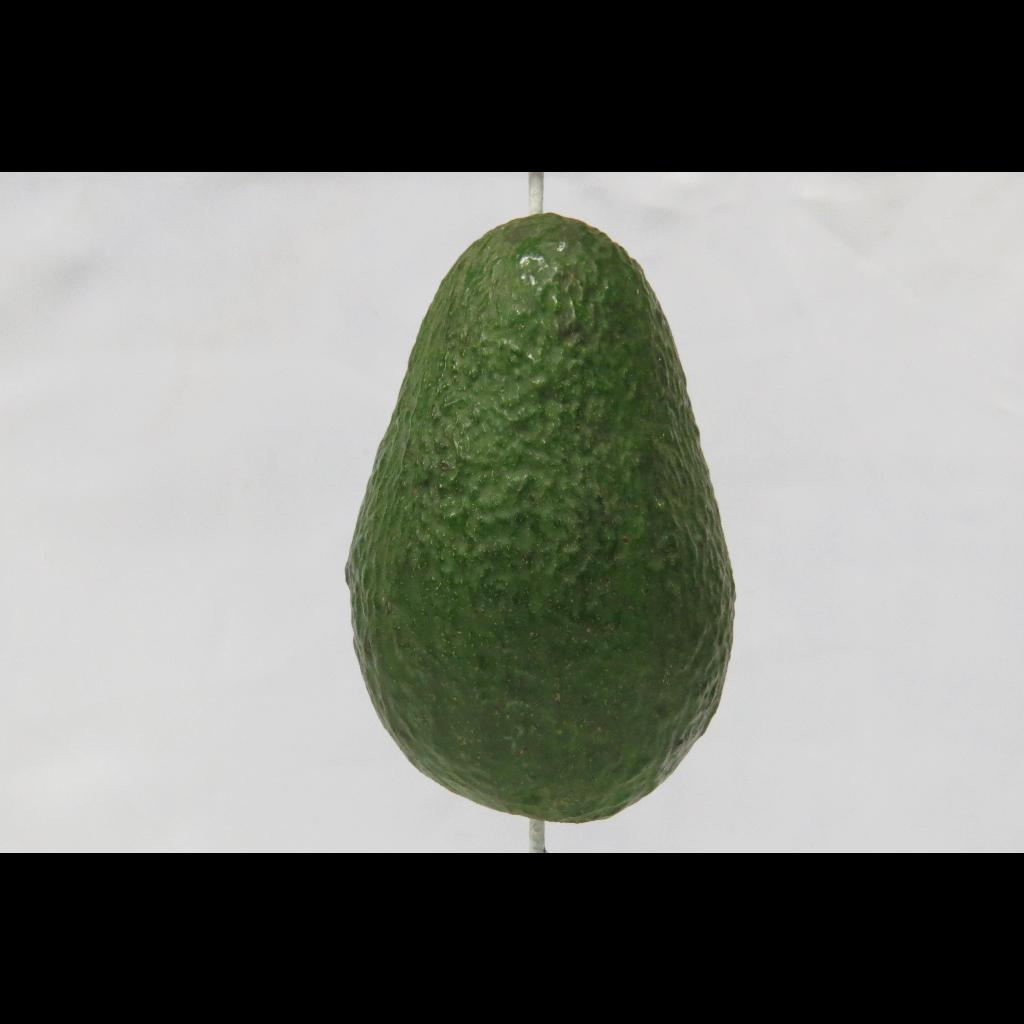Healthy: (326, 198, 754, 844)
